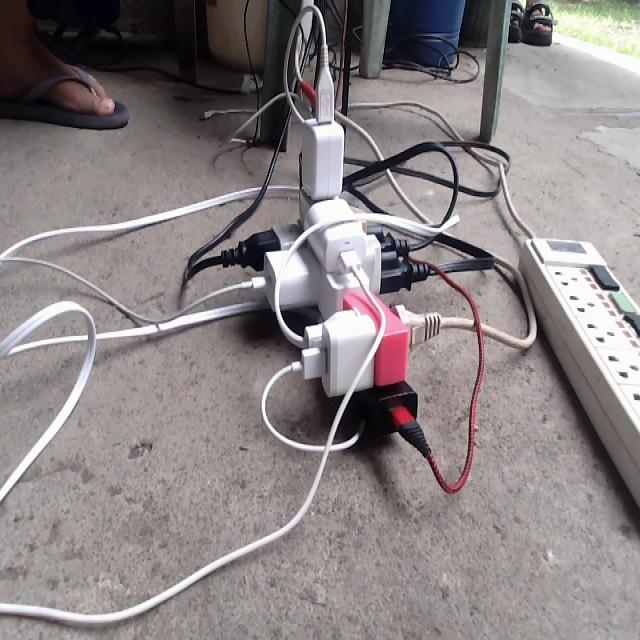-: (231, 106, 443, 442)
